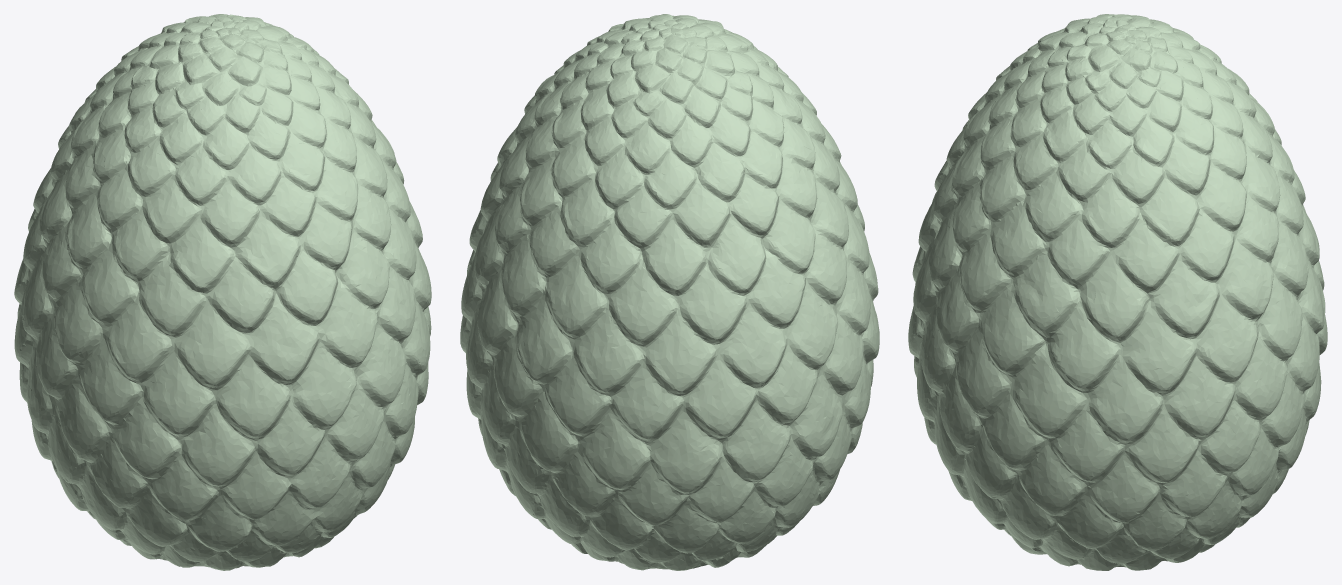
File: Egg_Light.fbx
The picture shows the model from 3 angles, left to right: view 1: azimuth 30°, elevation 25°; view 2: azimuth 150°, elevation 25°; view 3: azimuth 270°, elevation 25°; orthographic projection.
Visible parts, largest first — view 1: DragonEggSolid; view 2: DragonEggSolid; view 3: DragonEggSolid.
Part boxes in pixels (bbox=[...]): DragonEggSolid: bbox=[14, 14, 431, 570]; DragonEggSolid: bbox=[460, 14, 879, 570]; DragonEggSolid: bbox=[908, 14, 1327, 570].
Size of the model in its own units: 185 by 244 by 185.
